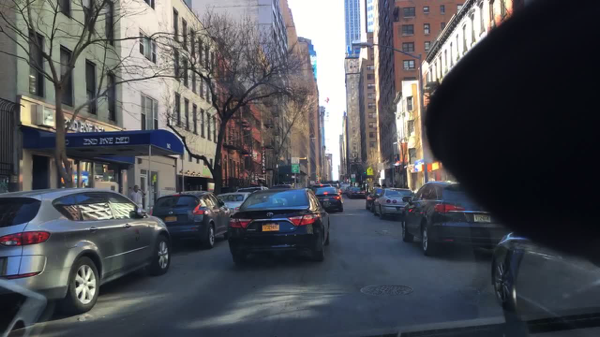car: (0, 188, 170, 316), (489, 232, 598, 324), (402, 180, 512, 256), (228, 189, 330, 265), (152, 191, 231, 250), (374, 188, 415, 221), (212, 193, 252, 226), (311, 187, 343, 213), (309, 184, 342, 209), (234, 188, 266, 210), (366, 189, 387, 212), (268, 184, 296, 196), (347, 187, 367, 200)
person: (131, 184, 146, 214)
traffic light: (352, 39, 374, 48), (368, 165, 374, 174)
traffic sign: (290, 164, 299, 173), (291, 156, 299, 164), (367, 166, 374, 175)
